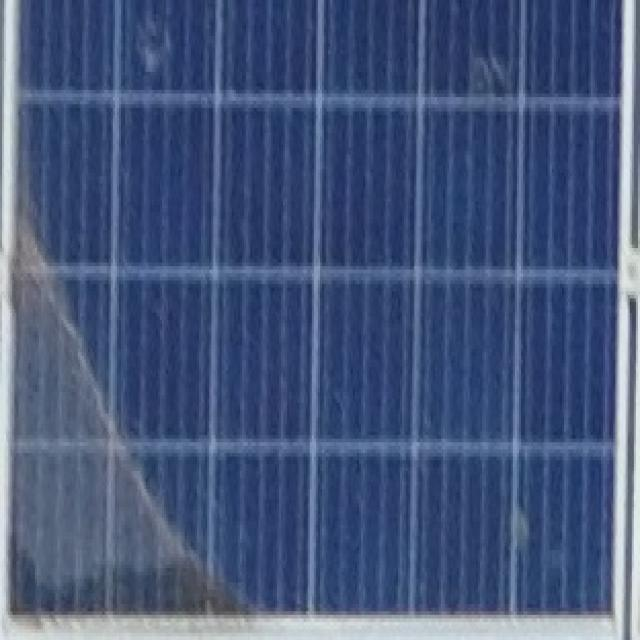Dust: (12, 177, 249, 624)
bird-droppings: (487, 470, 545, 570), (119, 18, 189, 85), (466, 34, 516, 116)
